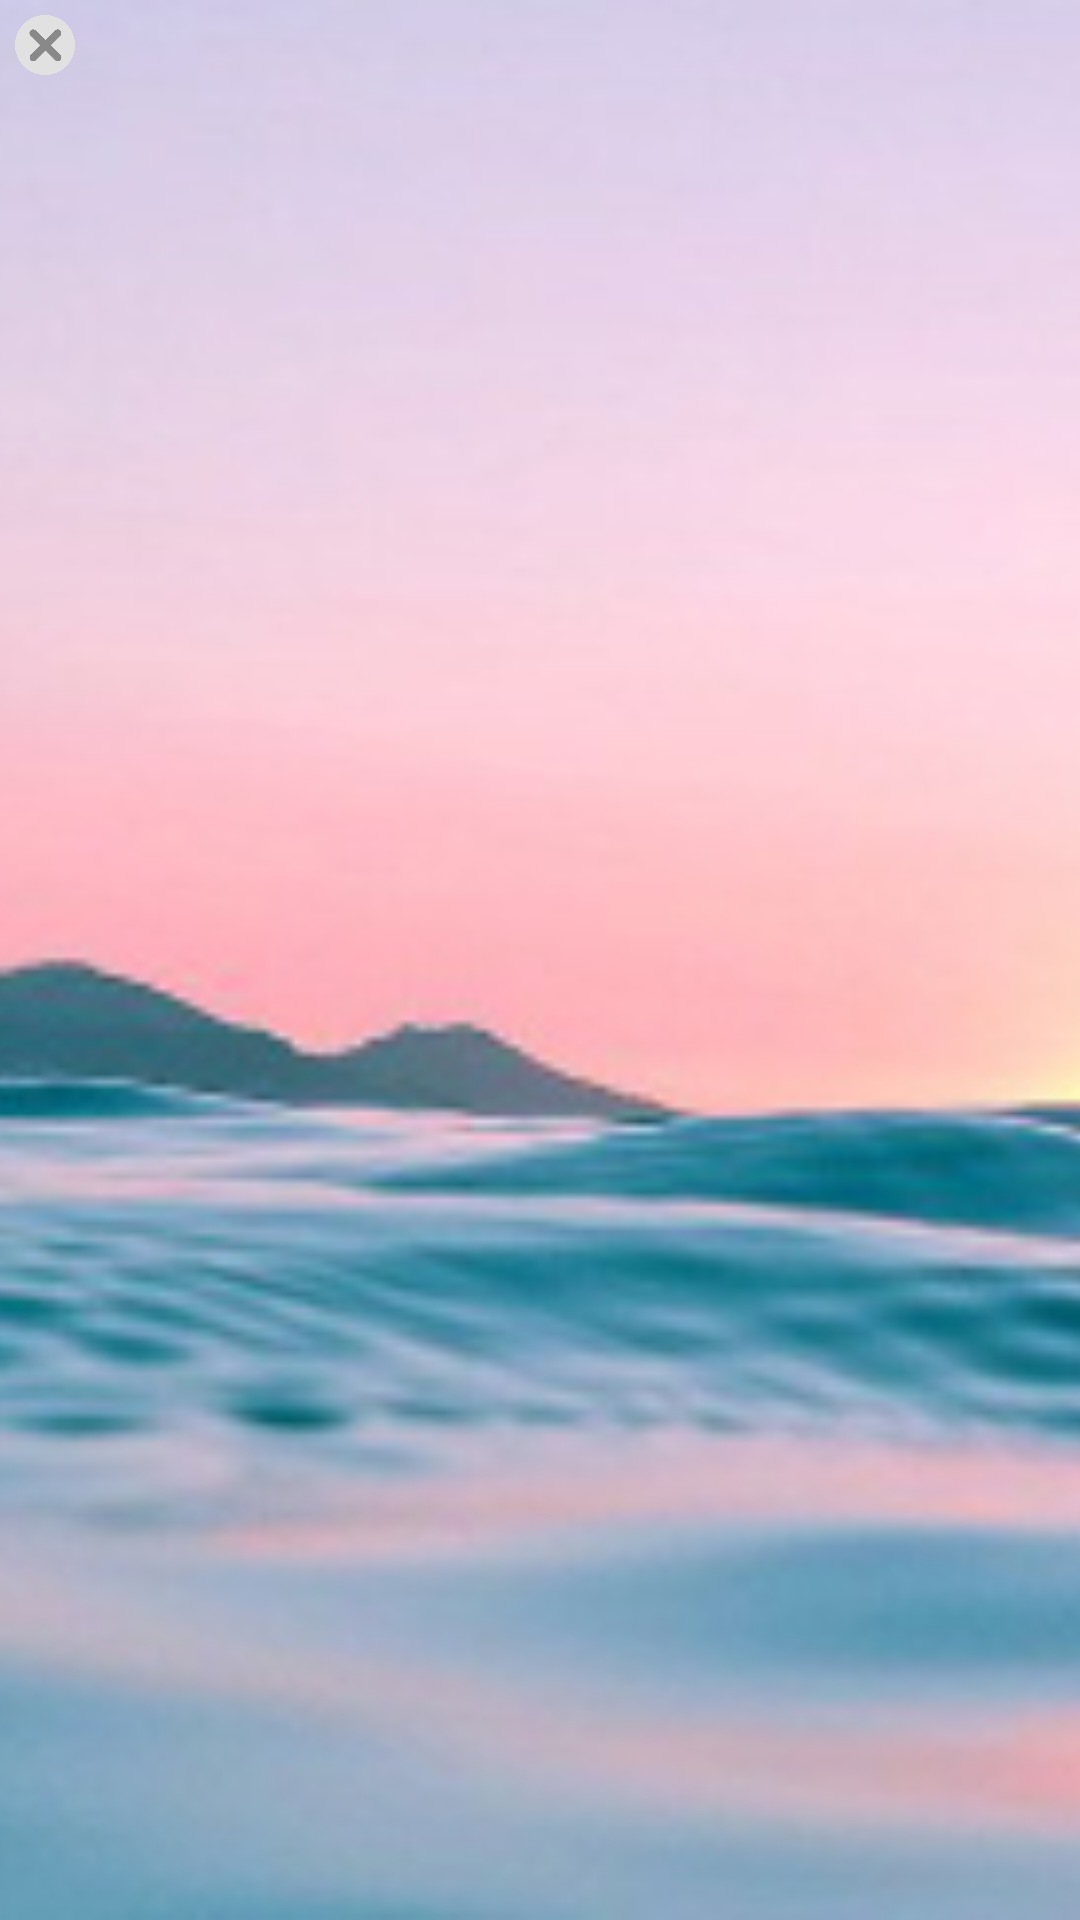

Point at icon controls on the screen. Image size 1080px×1920px, points as [x,y].
delete: [45,45]
